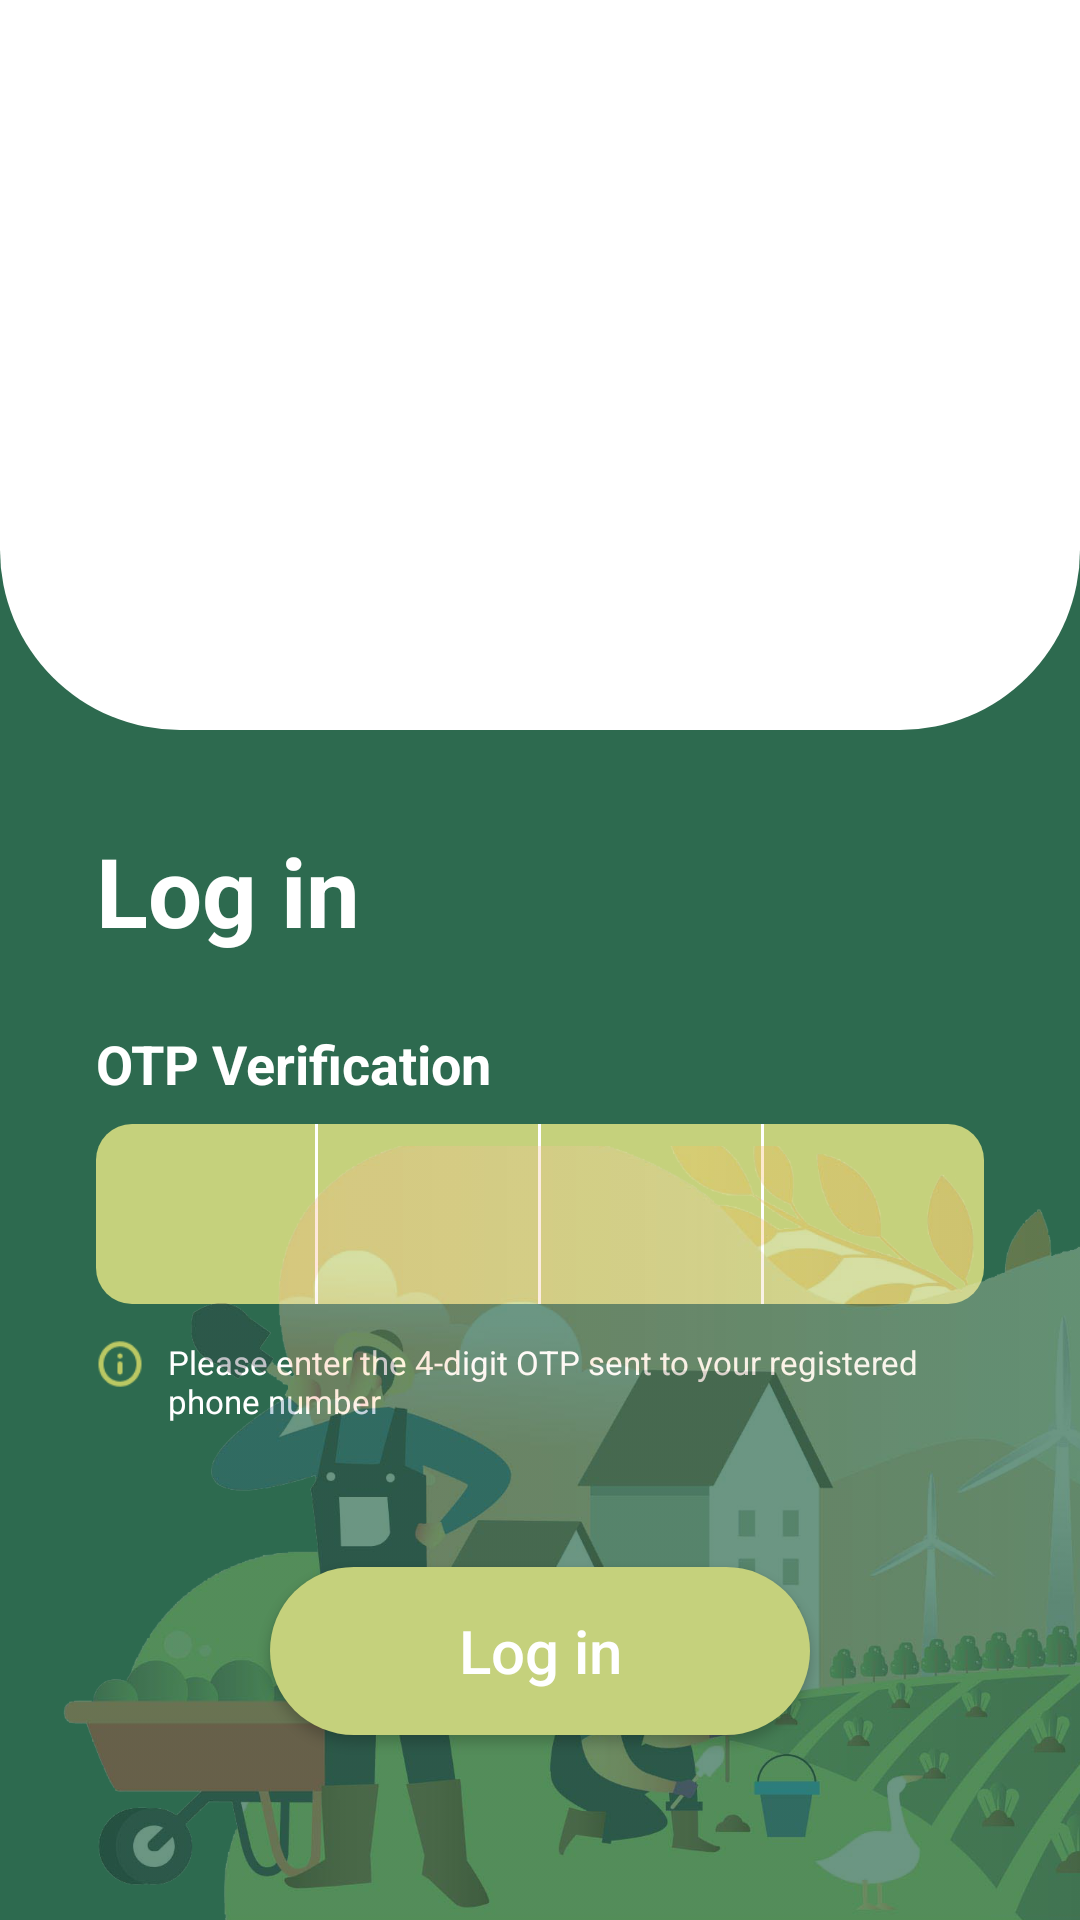

Named icons in this screenshot (1080x1920) and their bounding boxes, BBox(x1, y1, x2, y2):
info: BBox(98, 1341, 142, 1387)
